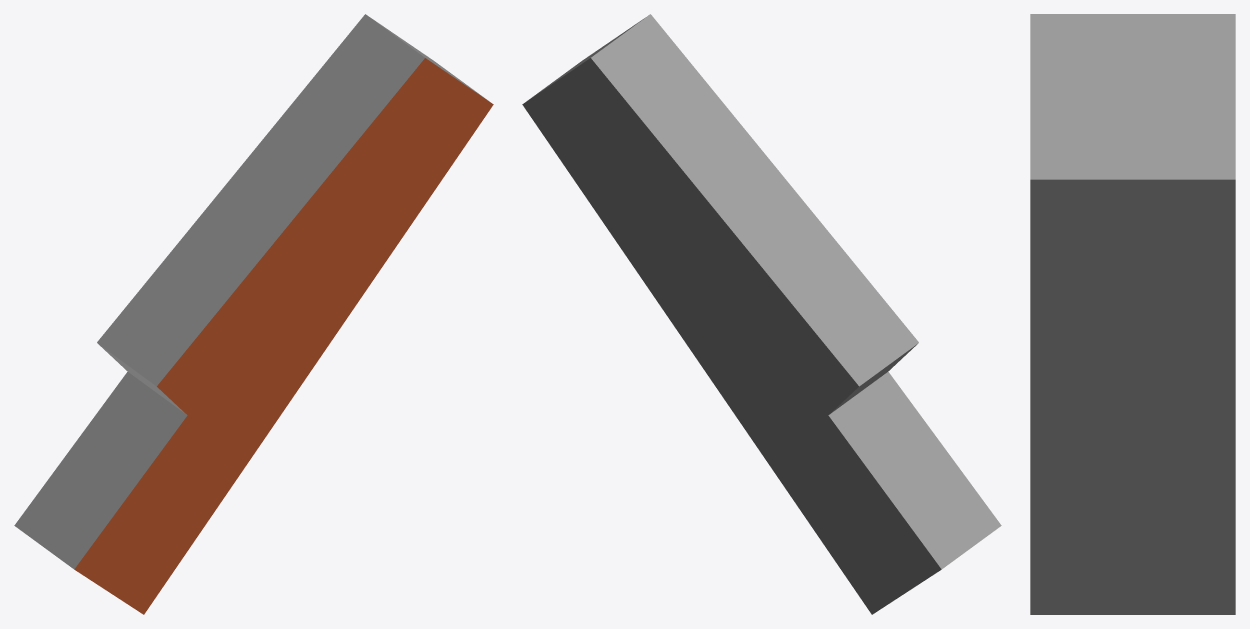
File: construction_1981_assumed_A_Casa_h6m.obj
3 views of the same model, side by side, from view 1: azimuth 30°, elevation 25°; view 2: azimuth 150°, elevation 25°; view 3: azimuth 270°, elevation 25° (orthographic). The views are drawn at different scales.
Parts seen in each view (by area): view 1: construction_1981_assumed_A_Casa; view 2: construction_1981_assumed_A_Casa; view 3: construction_1981_assumed_A_Casa.
Part boxes in pixels (bbox=[...]): construction_1981_assumed_A_Casa: bbox=[14, 14, 493, 614]; construction_1981_assumed_A_Casa: bbox=[522, 14, 1001, 614]; construction_1981_assumed_A_Casa: bbox=[1030, 14, 1235, 614].
Size of the model in its own units: 24.24 by 26.97 by 6.
